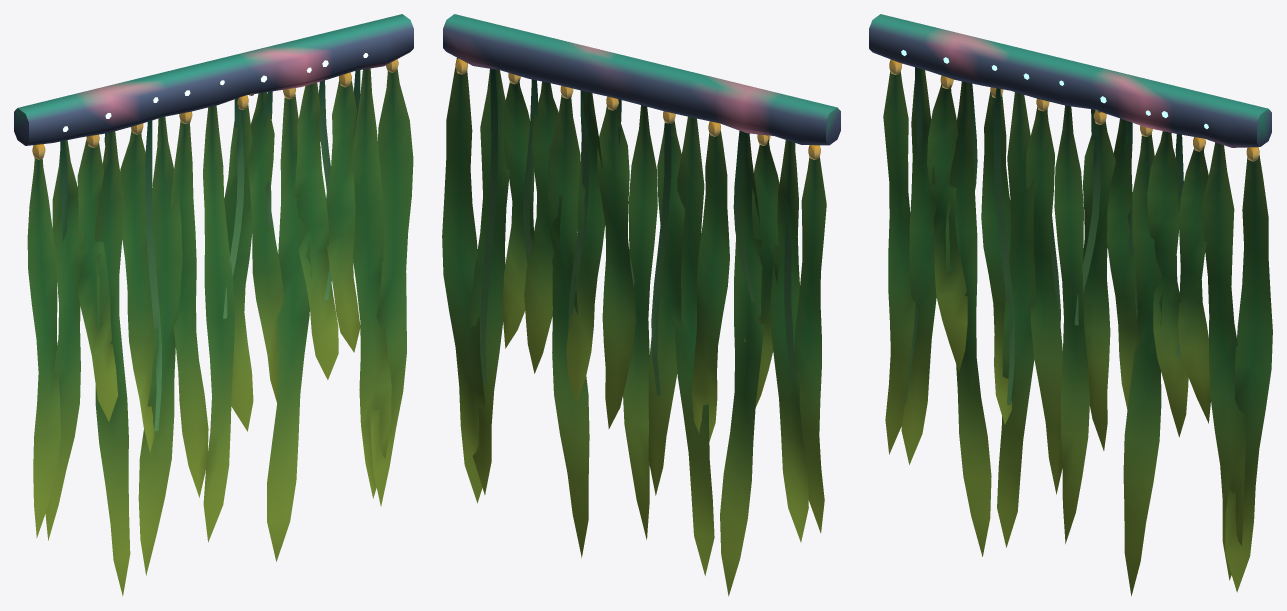
The model's file is curtain_underwater.glb.
The picture shows the model from 3 angles, left to right: view 1: azimuth 30°, elevation 25°; view 2: azimuth 150°, elevation 25°; view 3: azimuth 330°, elevation 25°; orthographic projection.
Parts seen in each view (by area): view 1: curtain_underwater; view 2: curtain_underwater; view 3: curtain_underwater.
Part boxes in pixels (left/top/right/bottom): curtain_underwater: left=14, top=14, right=413, bottom=596; curtain_underwater: left=442, top=14, right=840, bottom=596; curtain_underwater: left=869, top=14, right=1272, bottom=596.
Bounding box in the file's own units: 3.35 × 4.2 × 0.2694.
